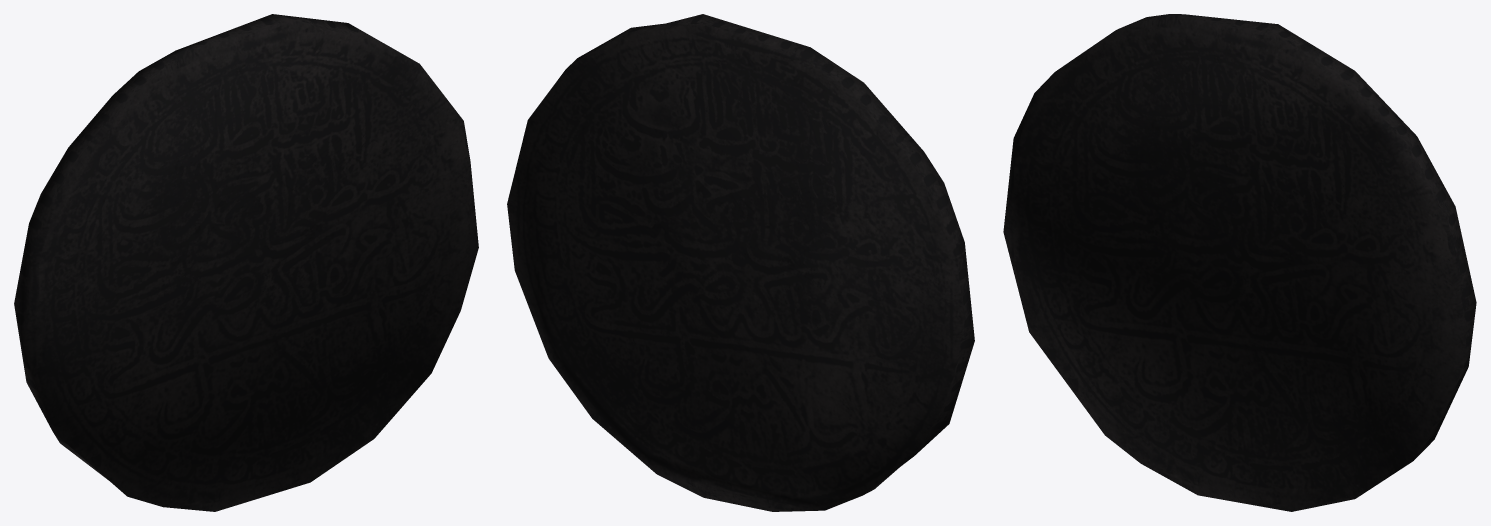
File: silver_coin.glb
The picture shows the model from 3 angles, left to right: view 1: azimuth 30°, elevation 25°; view 2: azimuth 150°, elevation 25°; view 3: azimuth 330°, elevation 25°; orthographic projection.
Visible parts, largest first — view 1: mustafa_iii_coin_low; view 2: mustafa_iii_coin_low; view 3: mustafa_iii_coin_low.
Boxes of the visible parts, box(x1,y1,x2,y2) form: mustafa_iii_coin_low: box(14, 14, 478, 511); mustafa_iii_coin_low: box(507, 14, 974, 511); mustafa_iii_coin_low: box(1003, 14, 1476, 511).
Bounding box in the file's own units: 2 × 1.99 × 0.1229.
1 material, 1 textured.
